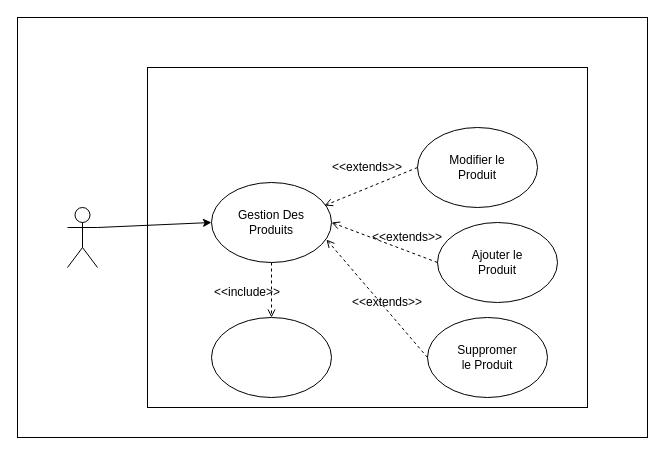
Image size: 665x455. Some labels were removed from this diagram. Each missing label, with the centre of its shape:
Responsable service: the point at 82,237
S'authentifier: the point at 271,357
